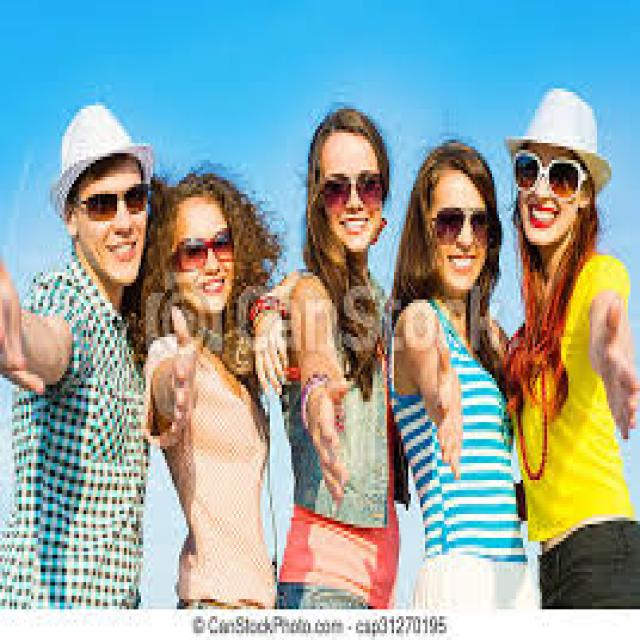hat: (48, 105, 155, 292), (506, 85, 612, 252)
head: (150, 180, 262, 316), (413, 146, 499, 300), (308, 109, 389, 255)
